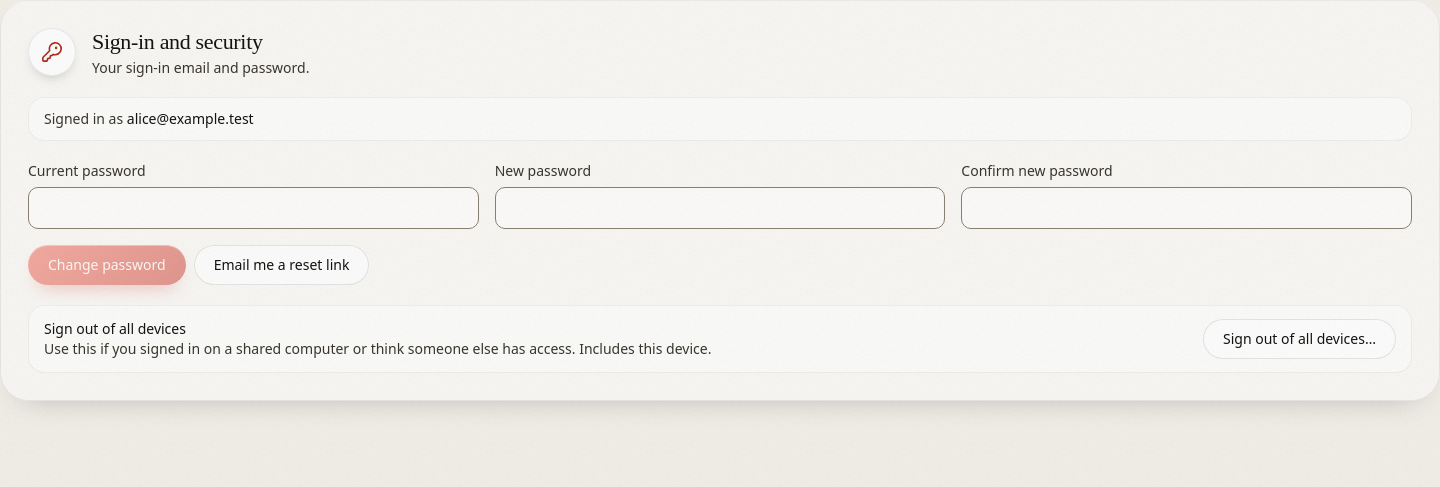
Test case: security › checks the new password locally, then changes it with the current one
This screenshot has width=1440, height=487.
Type "old-password" into the password field labelled "Current password". click: (253, 208)
box: [28,187,479,229]
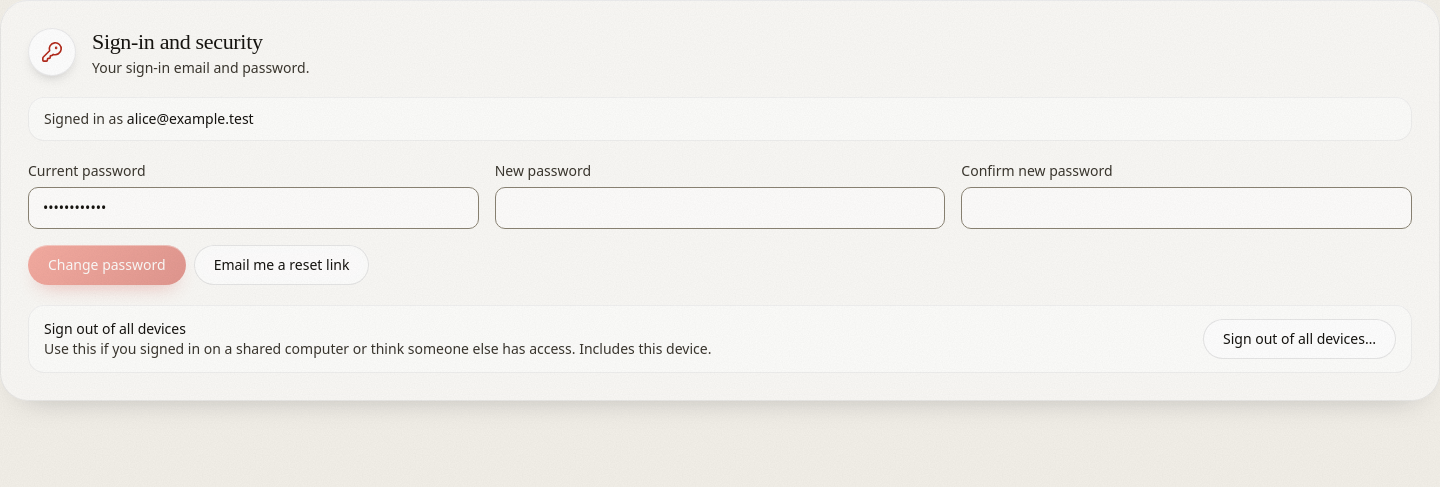
Type "short" into the password field labelled "New password". click: (720, 208)
box: [495,187,945,229]
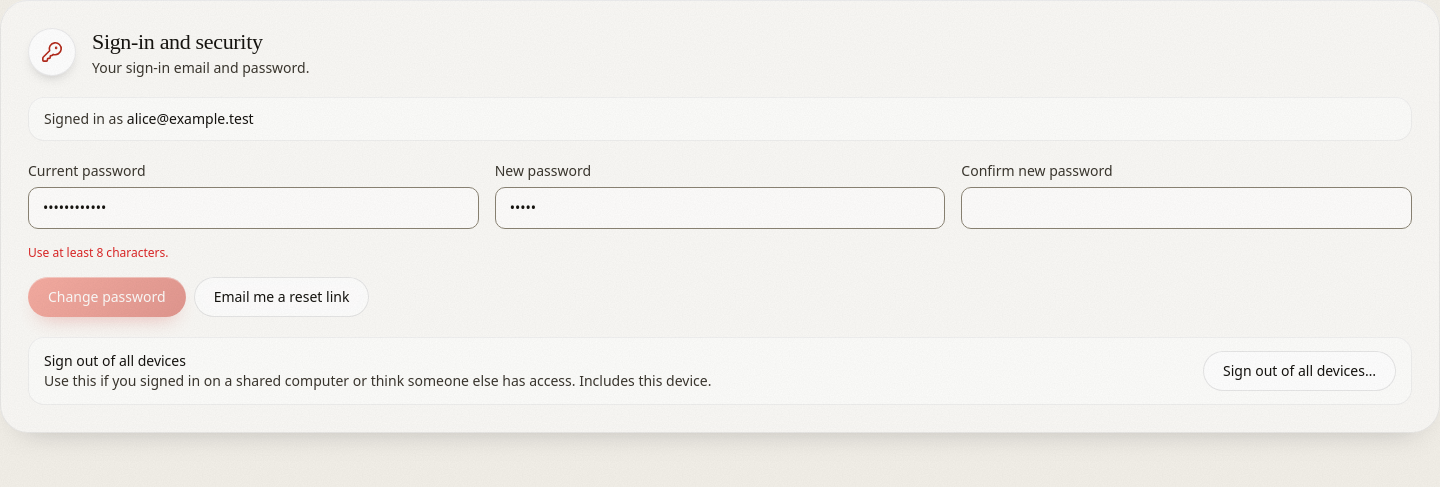
Now the text "Use at least 8 characters." is shown, box [28,244,168,261]
Type "a-new-password" into the password field labelled "New password". click: (720, 208)
box: [495,187,945,229]
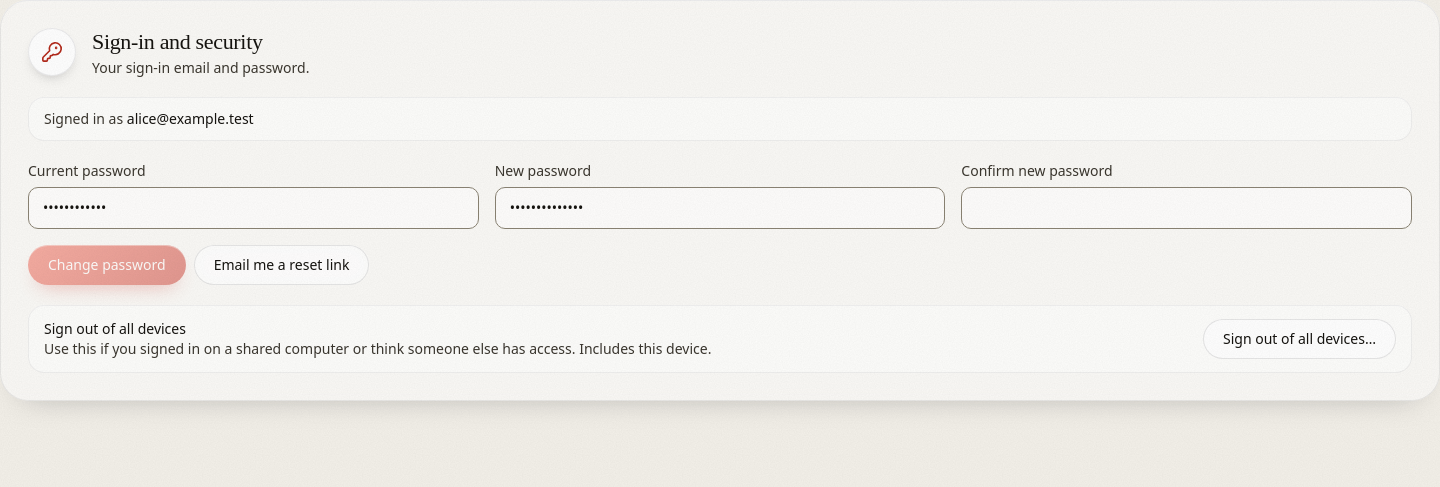
Type "a-new-passwordX" into the password field labelled "Confirm new password". click: (1187, 208)
box: [961,187,1412,229]
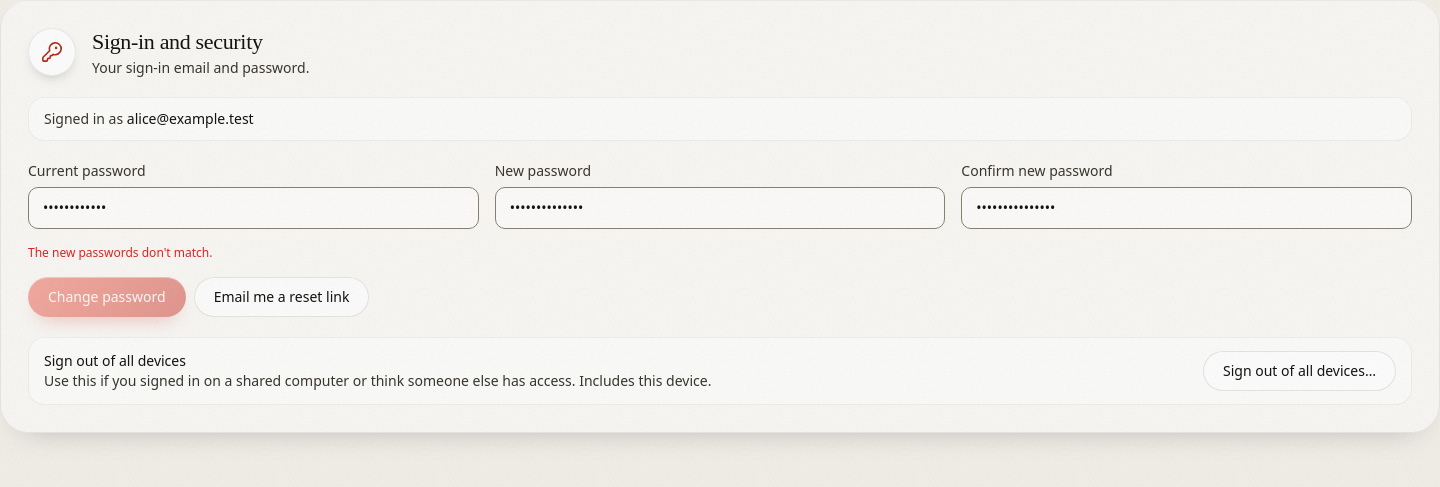
Expected: the button "Change password" is disabled, [28,277,186,317]
Now the text "The new passwords don't match." is shown, box [28,244,212,261]
Type "a-new-password" into the password field labelled "Confirm new password". click: (1187, 208)
box: [961,187,1412,229]
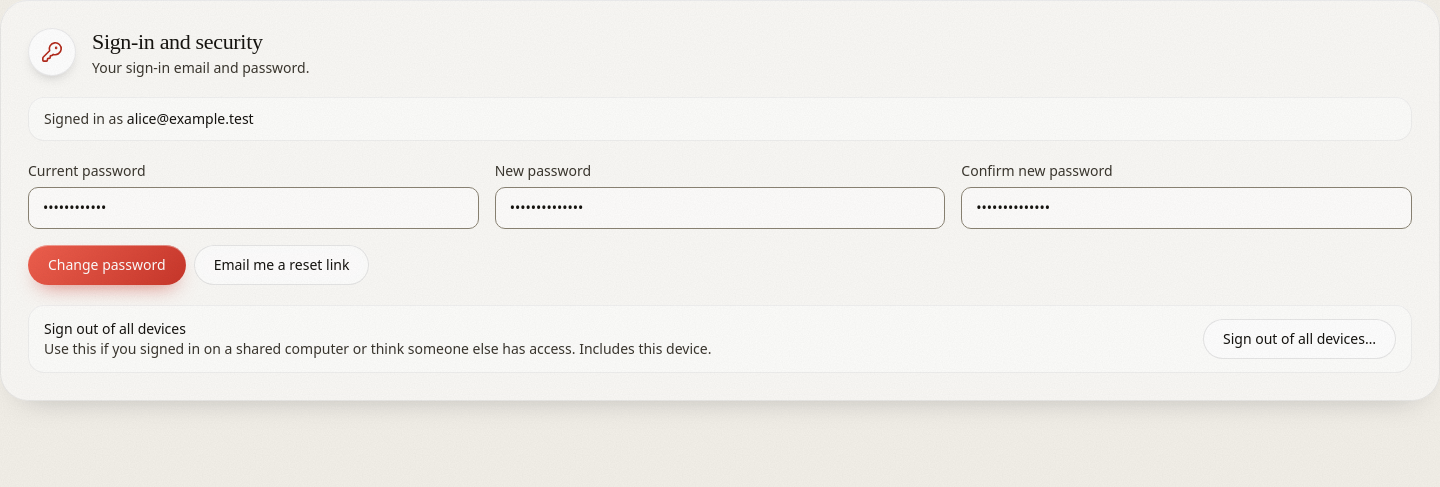
Click the button "Change password". click: (107, 265)
box: [28,245,186,285]
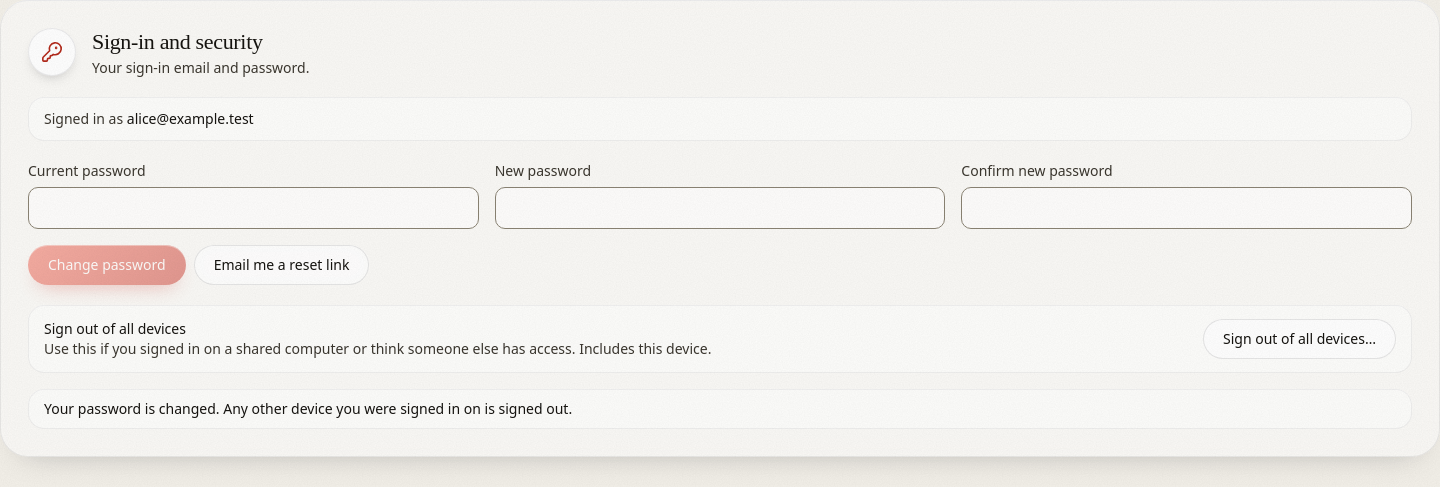
Now the message shows "Your password is changed.", box [44,399,572,418]
